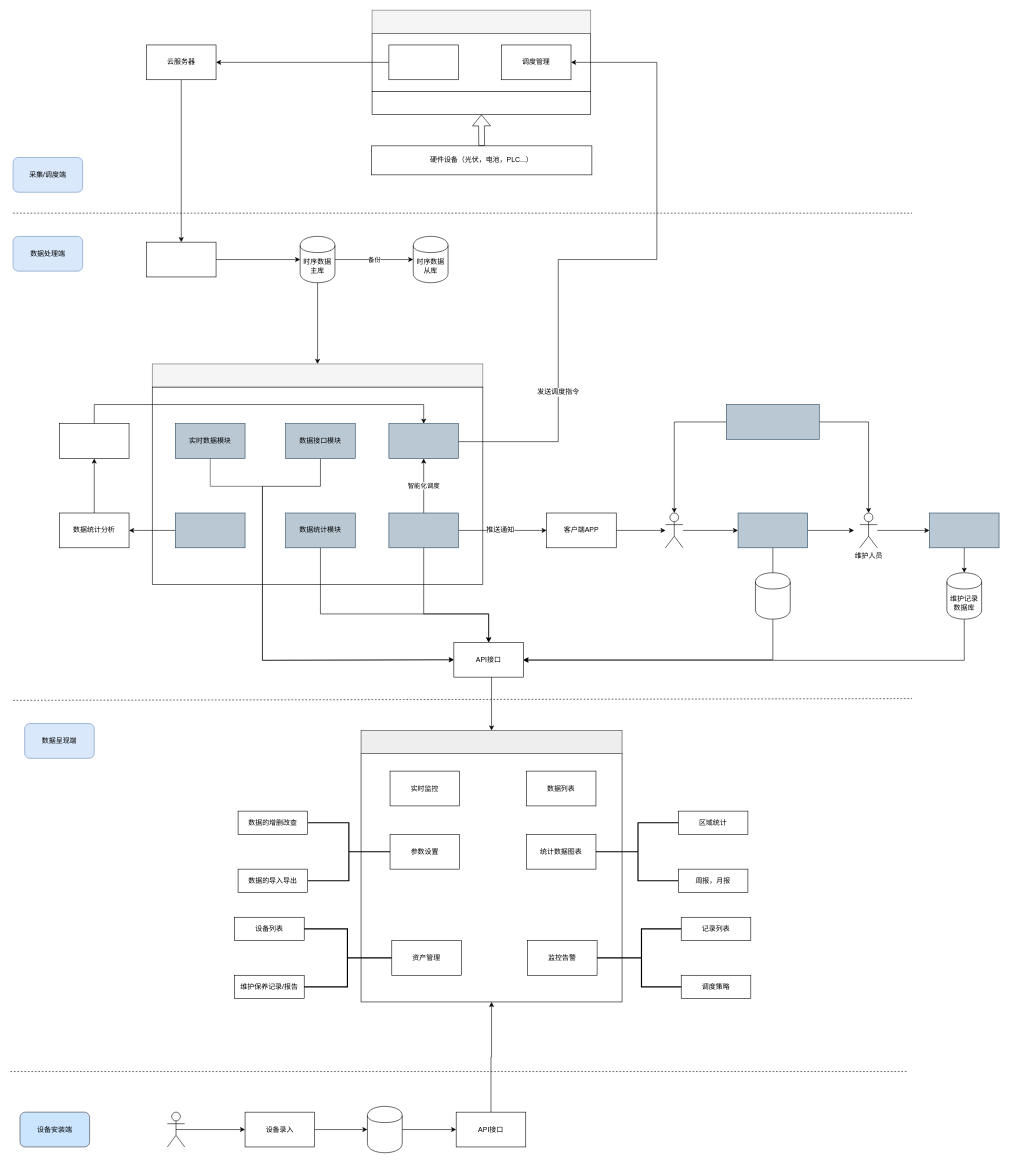
Some shapes in this 1009 by 1169 pixel diagram are drawn without their labels. The centre of each missing label's shape, as x and y in pixels:
ADMIN账户系统 （创建并管理用户权限）: [772,421]
IO驱动，数据协议: [481,103]
主机: [481,21]
交互界面: [491,742]
创建调度策略: [94,440]
历史归档模块: [210,530]
工单系统: [772,530]
工单记录数据库: [772,595]
微电网项目模块: [317,375]
数据清洗分类: [181,259]
数据采集: [423,62]
监控报警模块: [423,530]
系统管理人员: [674,530]
维护系统: [964,530]
设备数据库: [384,1129]
调度模块: [423,440]
采购人员: [176,1129]
